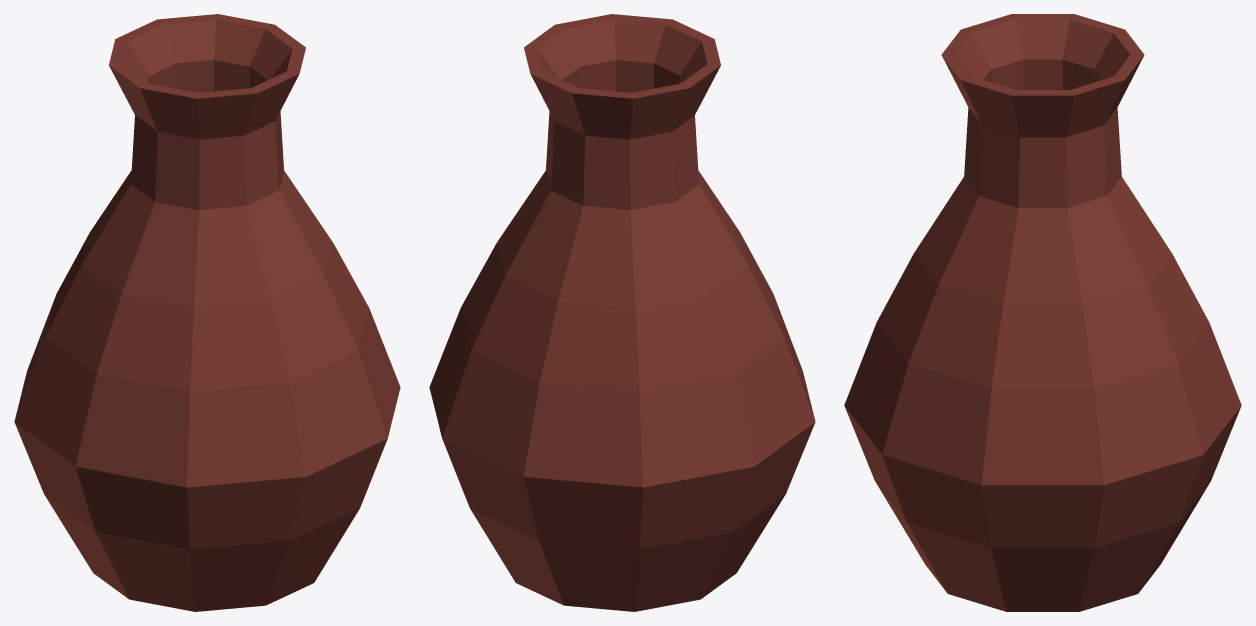
The model's file is vase01.gltf.
3 views of the same model, side by side, from view 1: azimuth 30°, elevation 25°; view 2: azimuth 150°, elevation 25°; view 3: azimuth 270°, elevation 25° (orthographic).
Visible parts, largest first — view 1: Cylinder; view 2: Cylinder; view 3: Cylinder.
Boxes of the visible parts, box(x1,y1,x2,y2) form: Cylinder: box(14, 14, 400, 611); Cylinder: box(429, 14, 815, 611); Cylinder: box(844, 14, 1241, 611).
Bounding box in the file's own units: 0.2517 × 0.3747 × 0.2647.
Materials: 1 (1 with a texture image).
